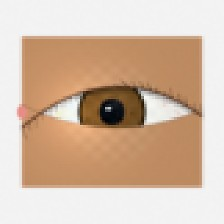pinguecula_lesion: (46, 99, 83, 129)
